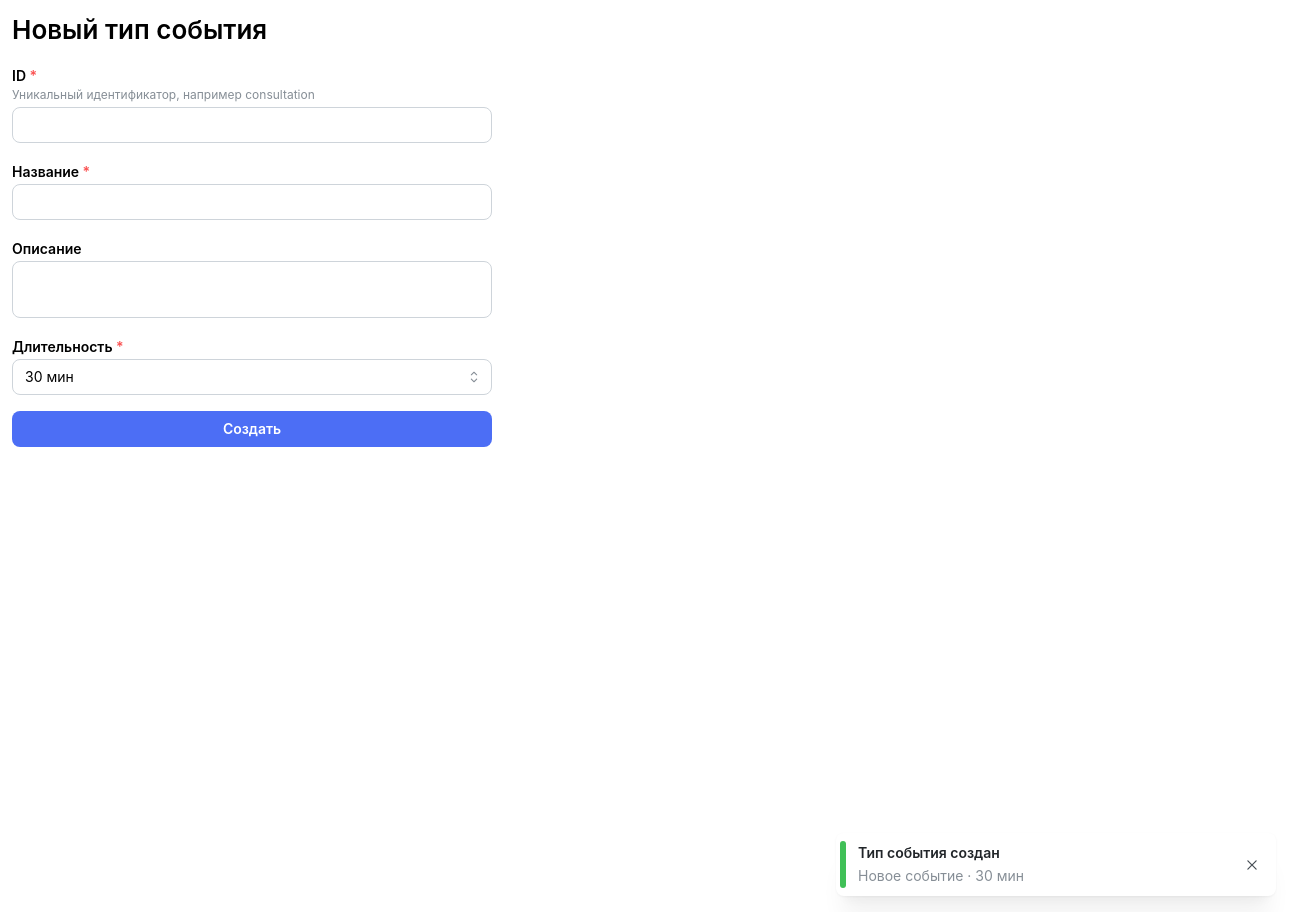
it: CreateEventTypePage (владелец: новый тип события) › клиентская валидация блокирует пустую форму
The image size is (1292, 912).
Click the button "Создать" at (252,429), box [12, 411, 492, 447]
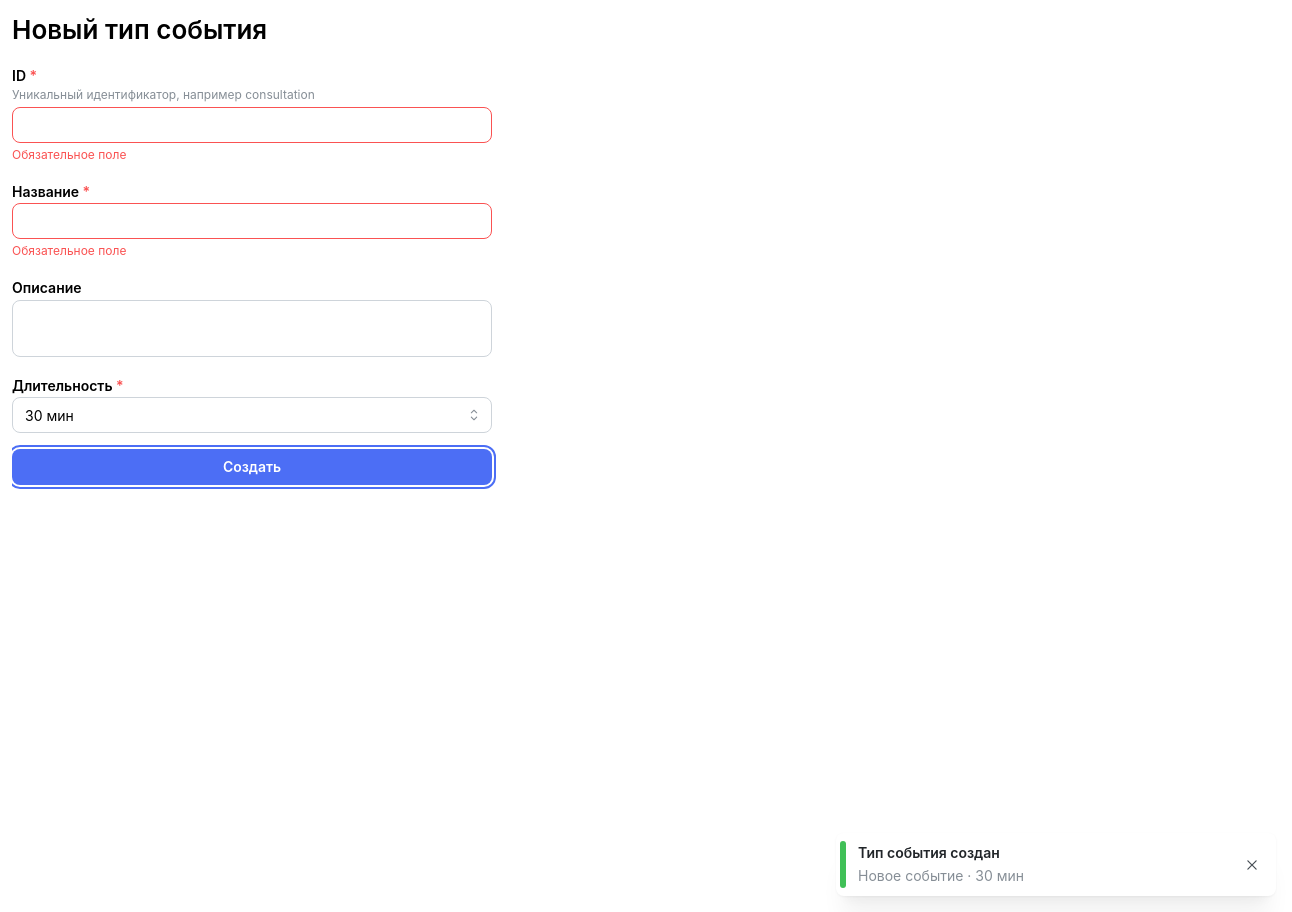
Now the text "Обязательное поле" is shown 2 times, box [12, 147, 126, 162]; [12, 244, 126, 258]
